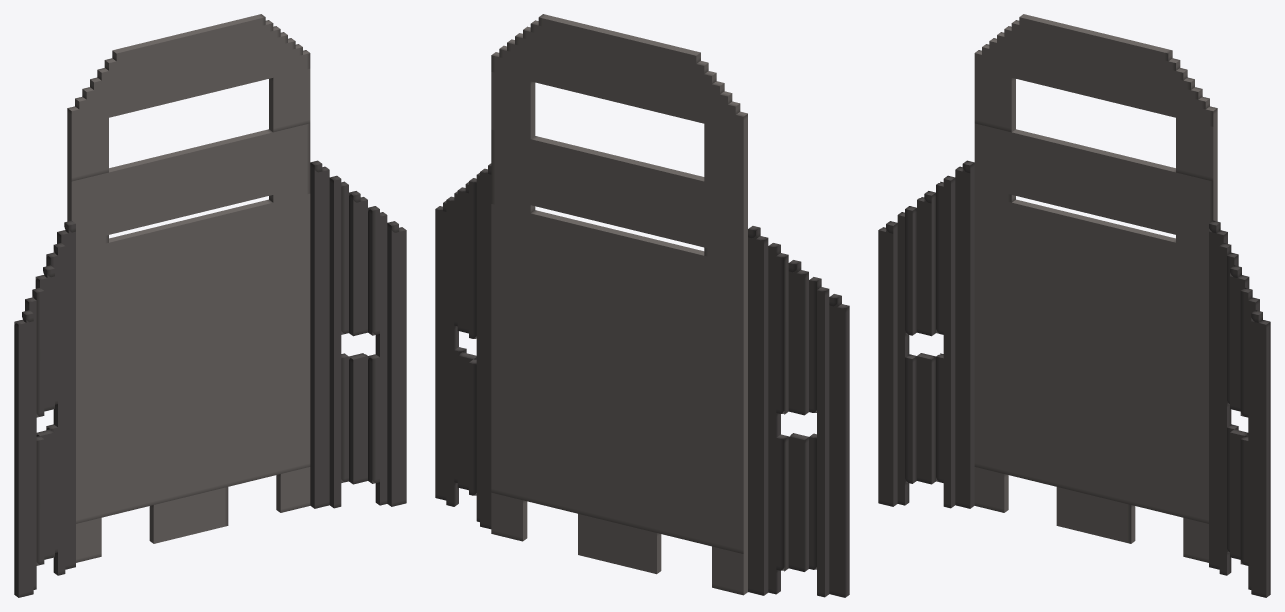
File: Barrier.dae
3 views of the same model, side by side, from view 1: azimuth 30°, elevation 25°; view 2: azimuth 150°, elevation 25°; view 3: azimuth 330°, elevation 25° (orthographic). The views are drawn at different scales.
Parts seen in each view (by area): view 1: Barrier; view 2: Barrier; view 3: Barrier.
Part boxes in pixels (x1,y1,x2,y2): Barrier: [14, 14, 406, 597]; Barrier: [435, 14, 849, 597]; Barrier: [878, 14, 1270, 597].
Bounding box in the file's own units: 52 × 64 × 6.
Materials: 1 (1 with a texture image).
